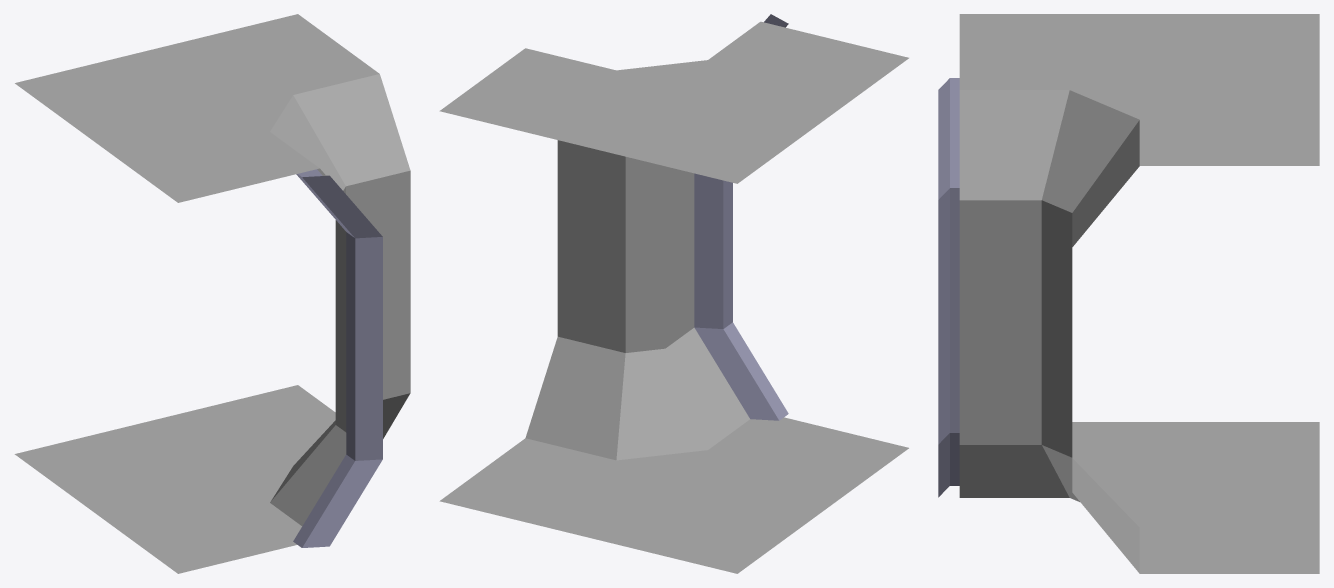
Rendered from SS_Tile_CornerI_v02.fbx.
The picture shows the model from 3 angles, left to right: view 1: azimuth 30°, elevation 25°; view 2: azimuth 150°, elevation 25°; view 3: azimuth 270°, elevation 25°; orthographic projection. The views are drawn at different scales.
Visible parts, largest first — view 1: polySurface11; view 2: polySurface11; view 3: polySurface11.
Part boxes in pixels (x1=…): polySurface11: x1=14, y1=14, x2=410, y2=573; polySurface11: x1=439, y1=14, x2=908, y2=573; polySurface11: x1=938, y1=14, x2=1319, y2=573.
Size of the model in its own units: 2 by 2.5 by 2.12.
